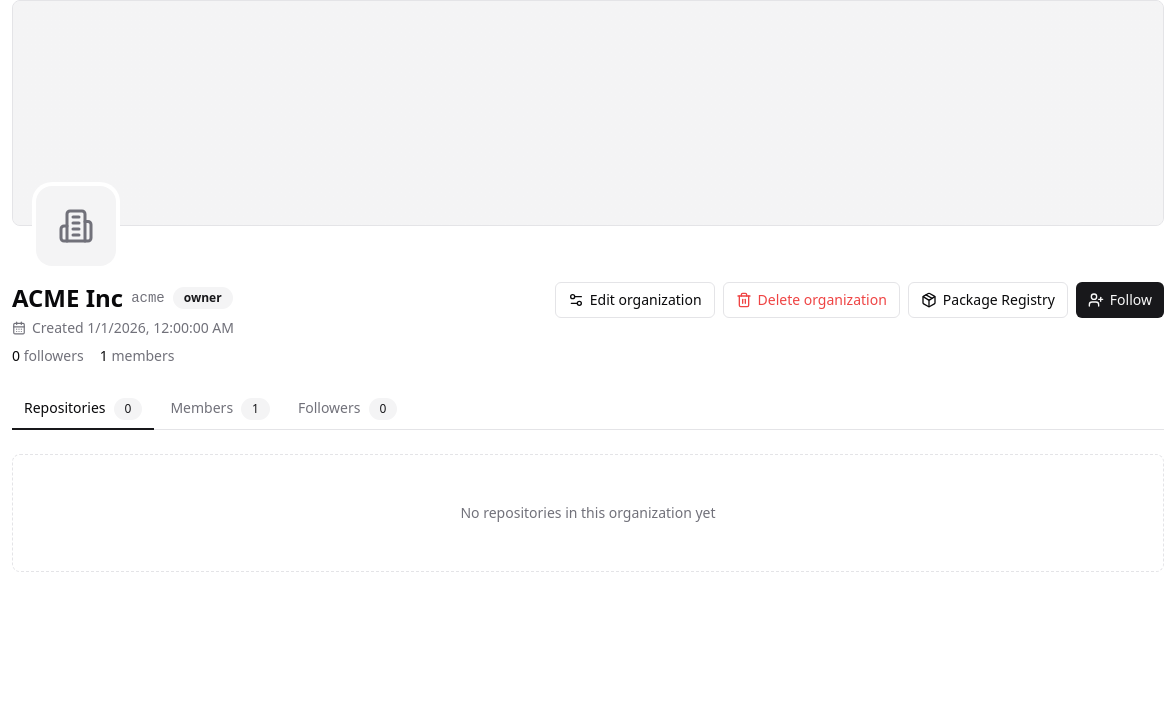
OrgPage › shows members and management controls for owners
The width and height of the screenshot is (1176, 720).
expect the heading "ACME Inc" is shown: met, box [12,282,123,314]
expect the button "Delete organization" is shown: met, box [722,282,900,318]
Click the button "Members 1". click: (220, 410)
box: [158,390,282,430]
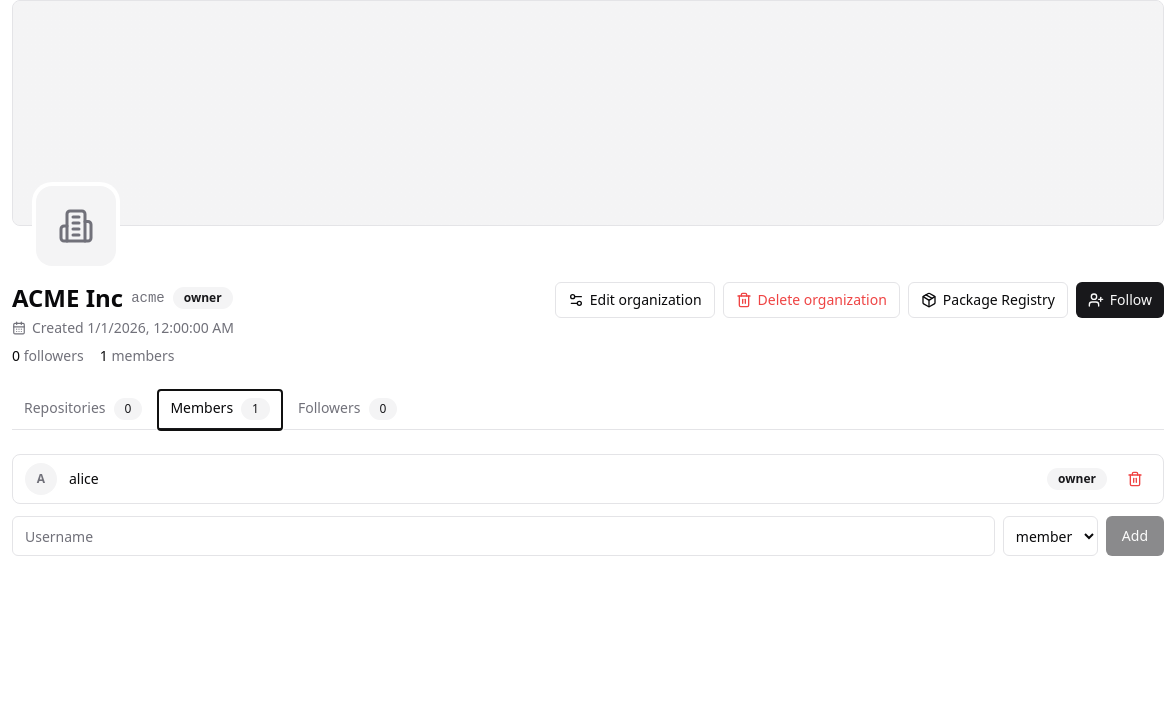
expect the text "alice" is shown: met, box [69,469,99,489]
